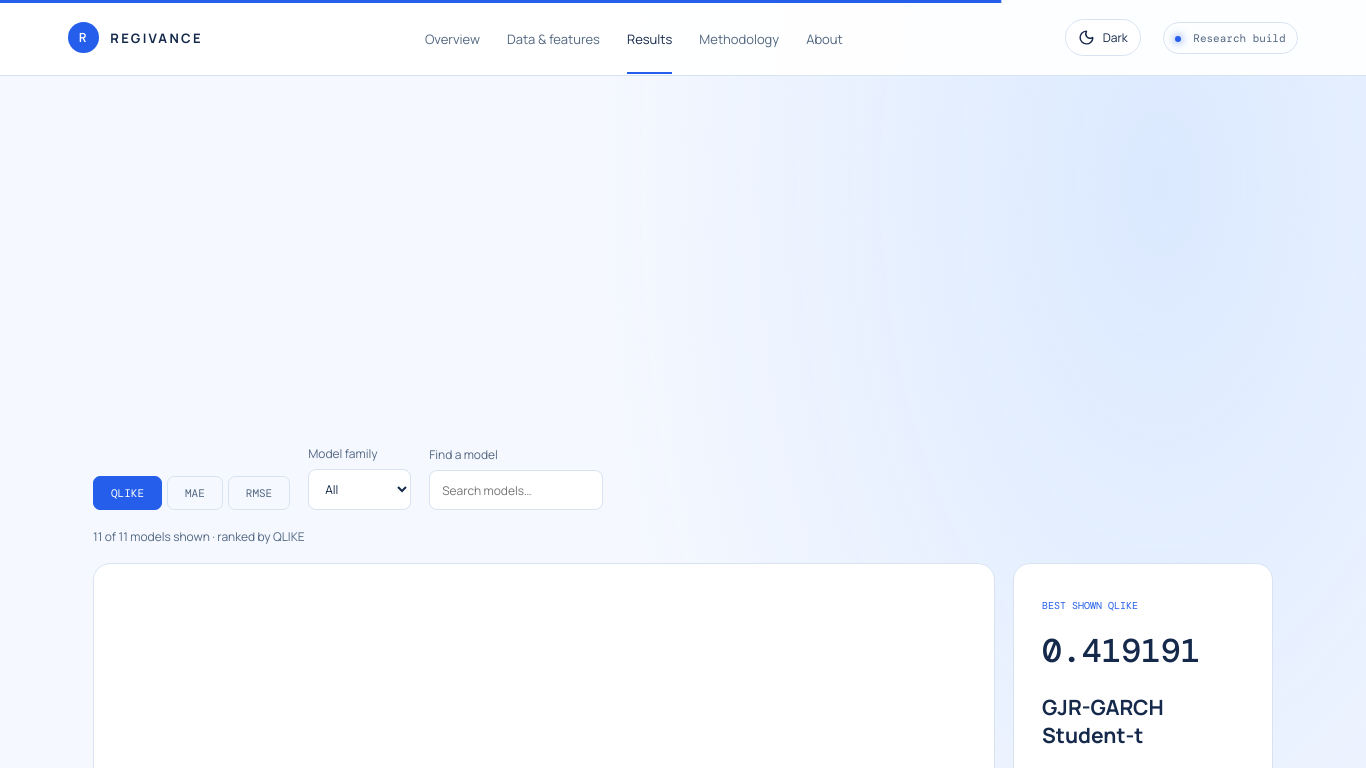
results combine filters, recover from no matches and inspect a model
Select "Neural" in the dropdown labelled "Model family" at (360, 490), box left=308, top=469, right=411, bottom=510
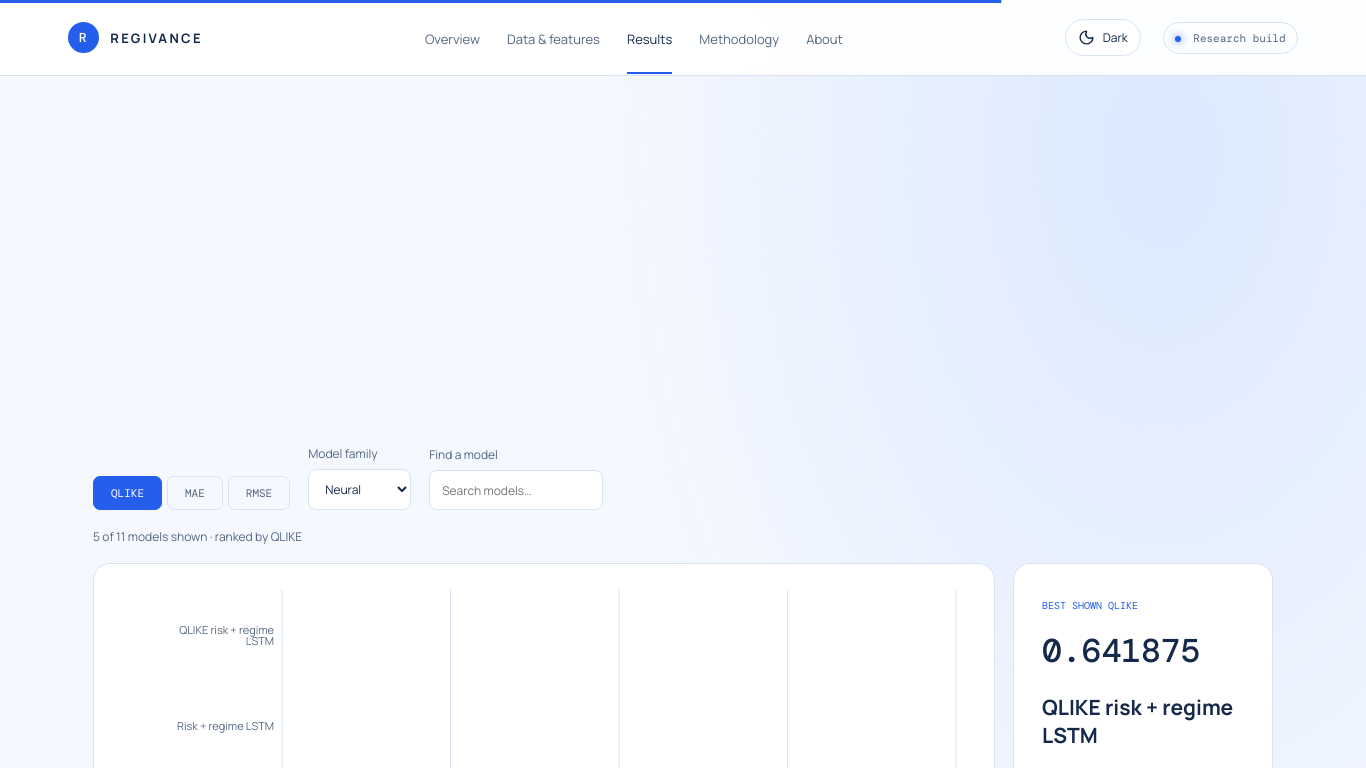
Now the message shows "5 of 11", box left=93, top=528, right=302, bottom=545
Type "no-such-model" into the search field labelled "Find a model" at (516, 490), box left=429, top=470, right=603, bottom=510
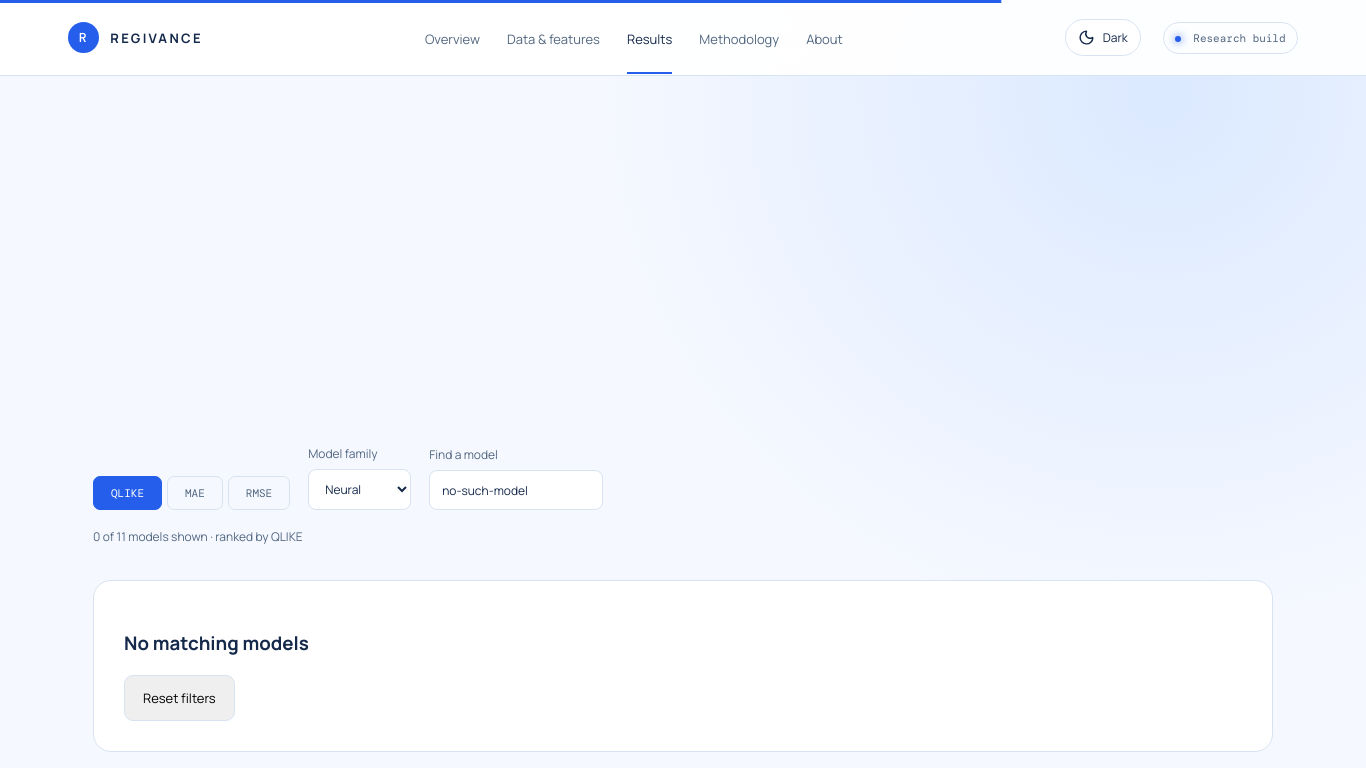
Now the heading "No matching models" is shown, box left=124, top=630, right=309, bottom=656
Click the button "Reset filters" at (179, 698), box left=124, top=675, right=235, bottom=721
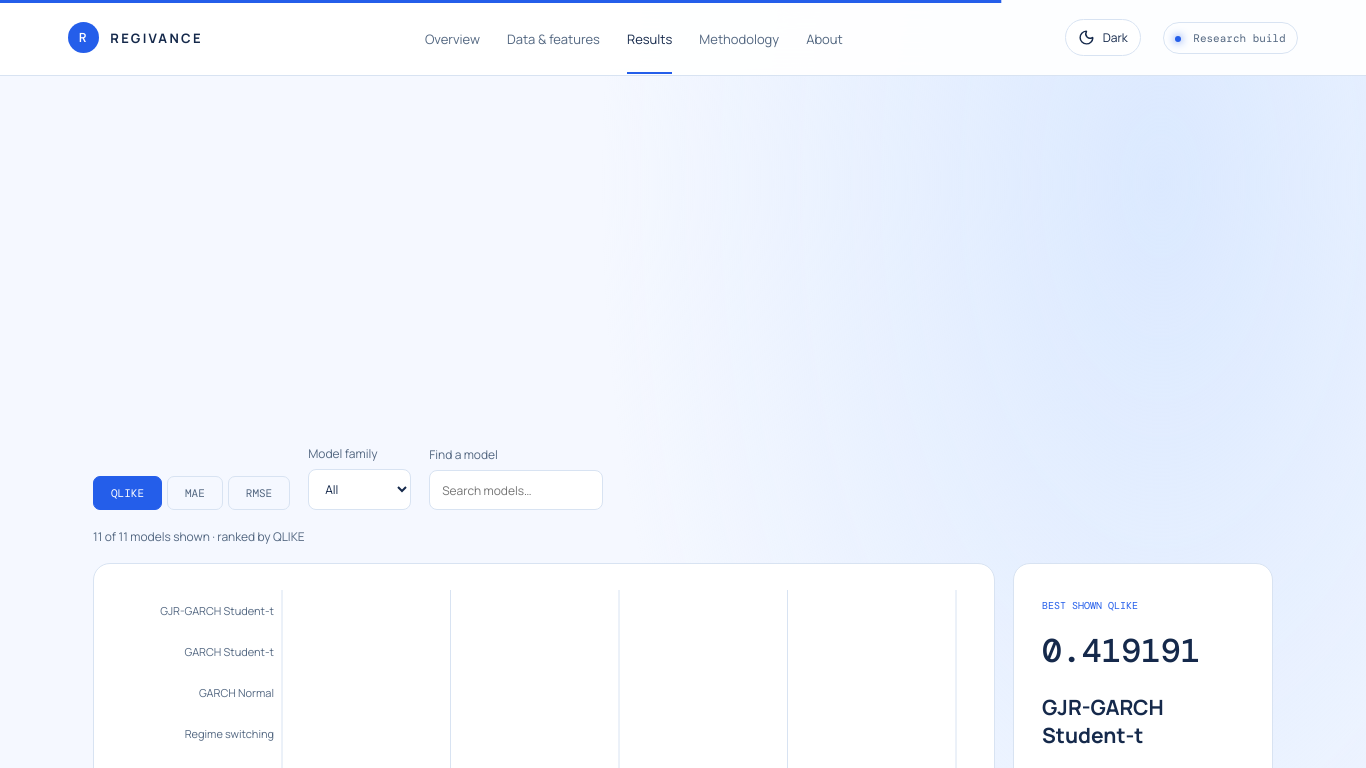
Now the message shows "11 of 11", box left=93, top=528, right=305, bottom=545
Click the button "MAE" at (195, 493), box left=167, top=476, right=223, bottom=510
(page scrolled)
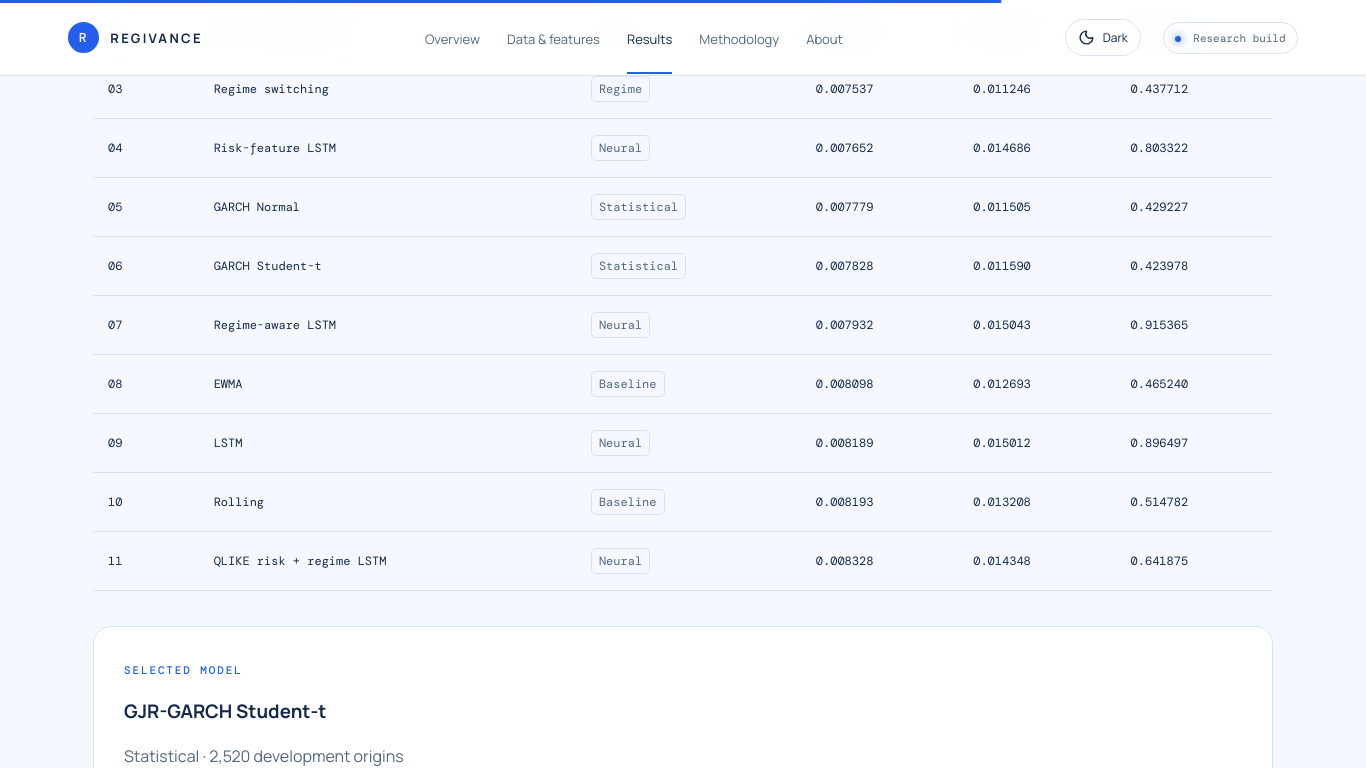
Click the button "EWMA" at (228, 384), box left=214, top=370, right=242, bottom=398
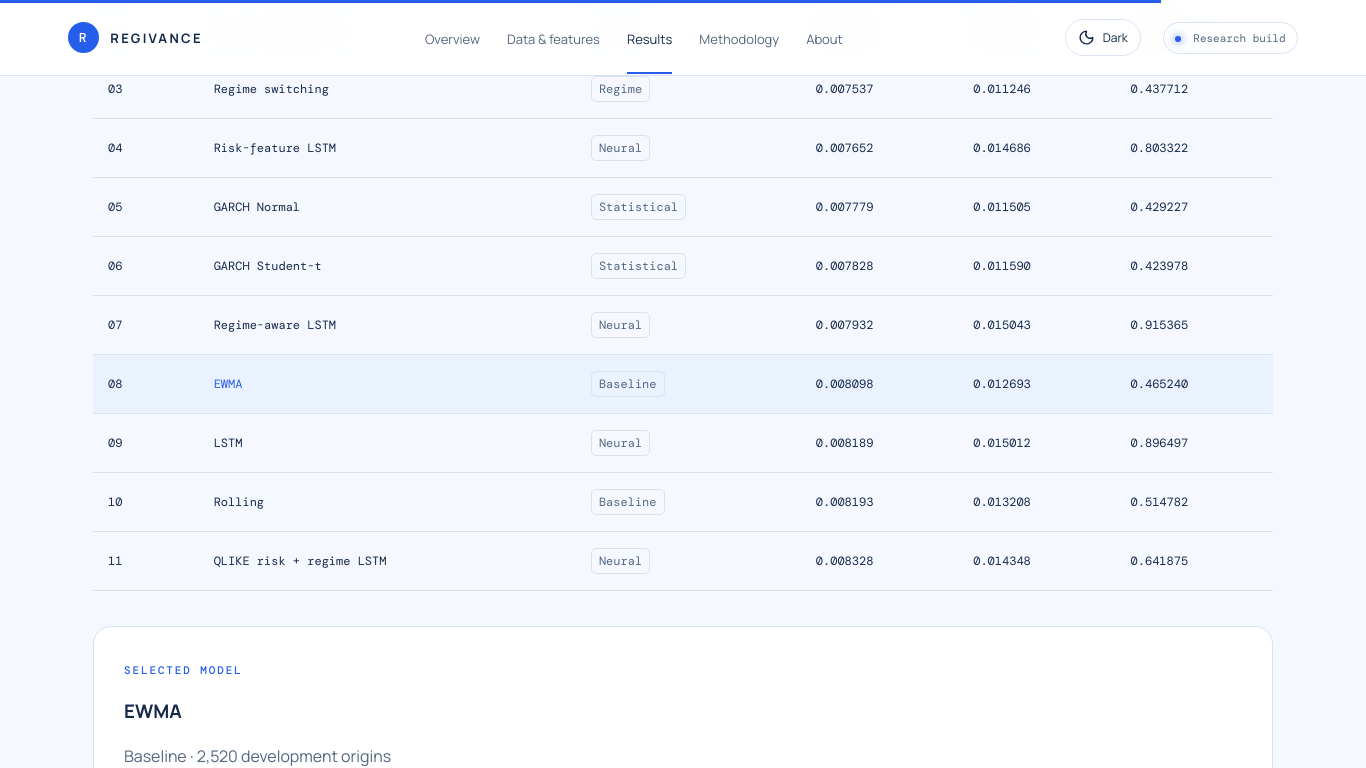
Now the heading reads "EWMA", box left=124, top=698, right=182, bottom=724
